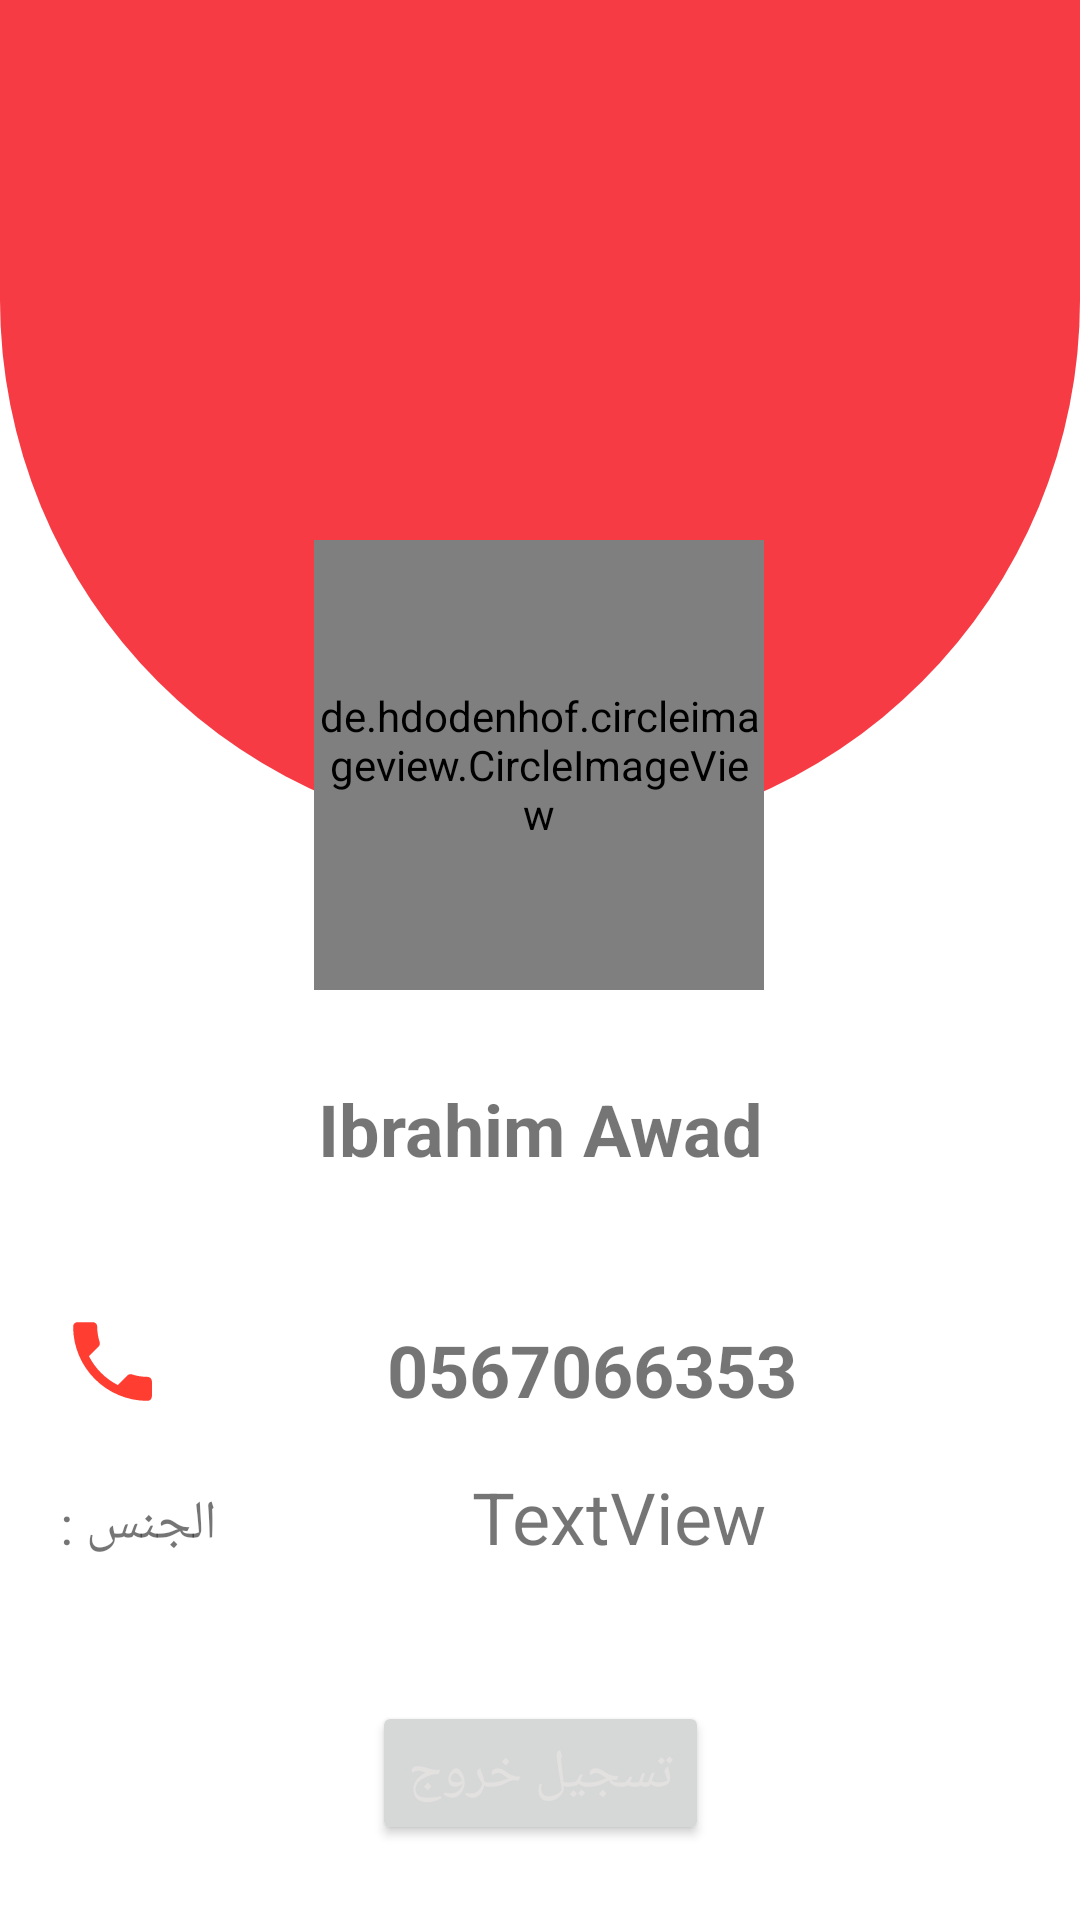

Icon click points for this 1080px×1920px phone screenshot, format (x=x, y=y):
phone: (x=112, y=1361)
